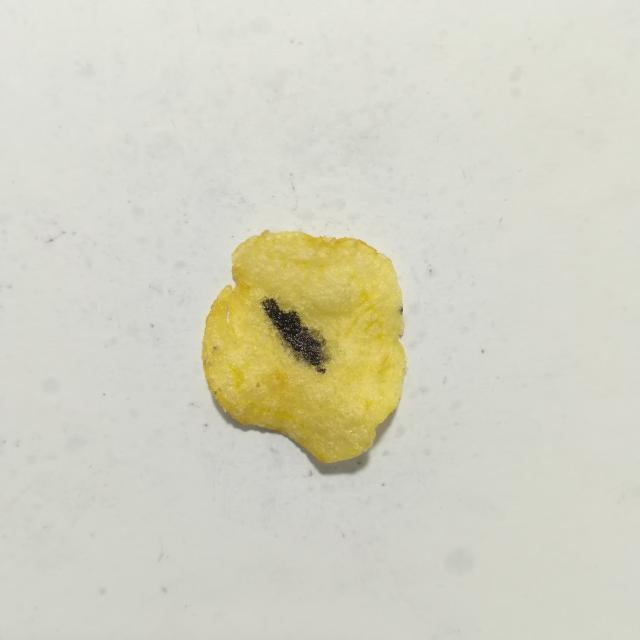chip: (202, 231, 406, 462)
damaged: (262, 298, 325, 373)
semi-damaged: (263, 309, 332, 374)
